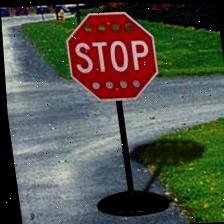Stop: (62, 8, 160, 104)
